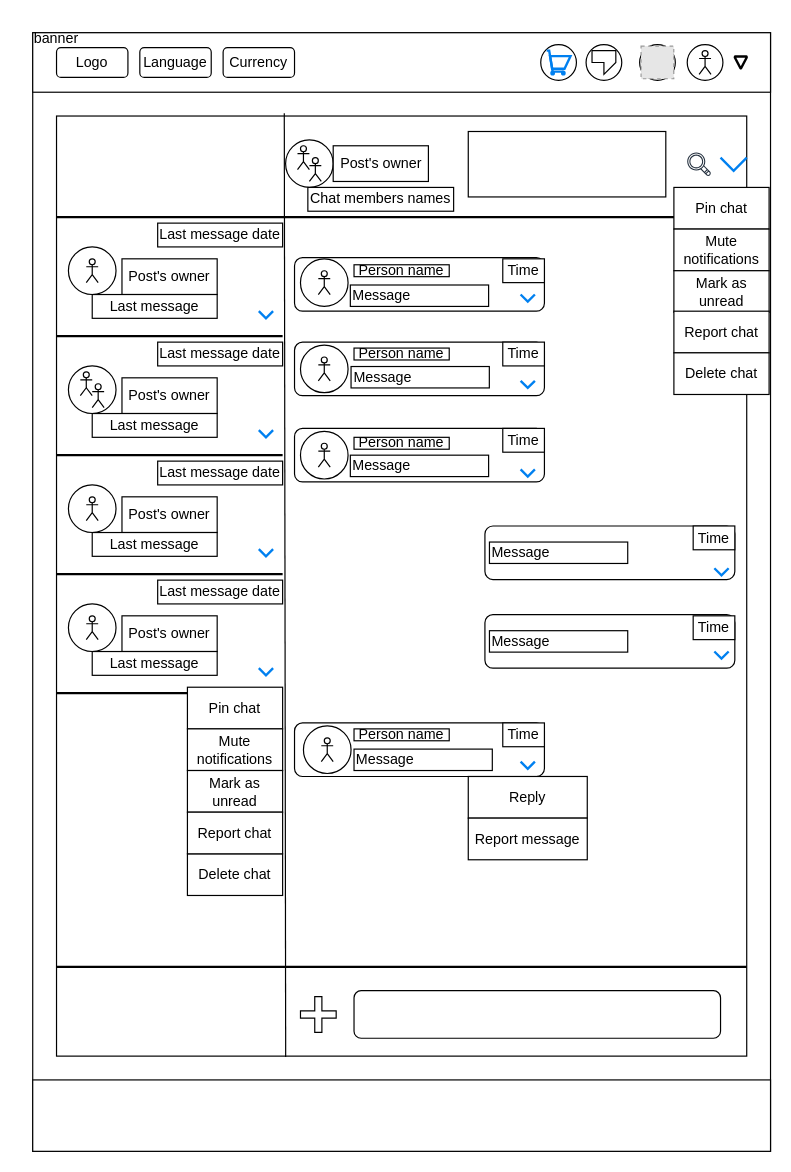
Image size: 791x1172. Some labels were removed from this diagram. Grey dashed boxes stand in for pictures. Here are the shapes that lost their labels. From the top down, the centre of each, then its label:
(x=566, y=163): Related Image and name of the post
(x=537, y=1013): Type message
(x=401, y=1115): footpage
